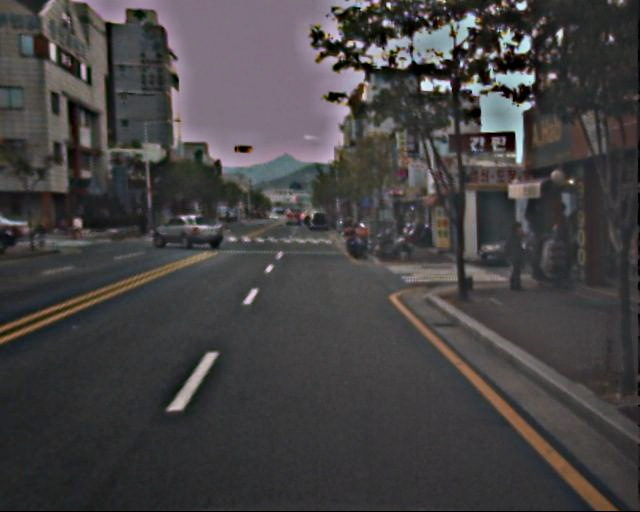person: (502, 222, 532, 294)
